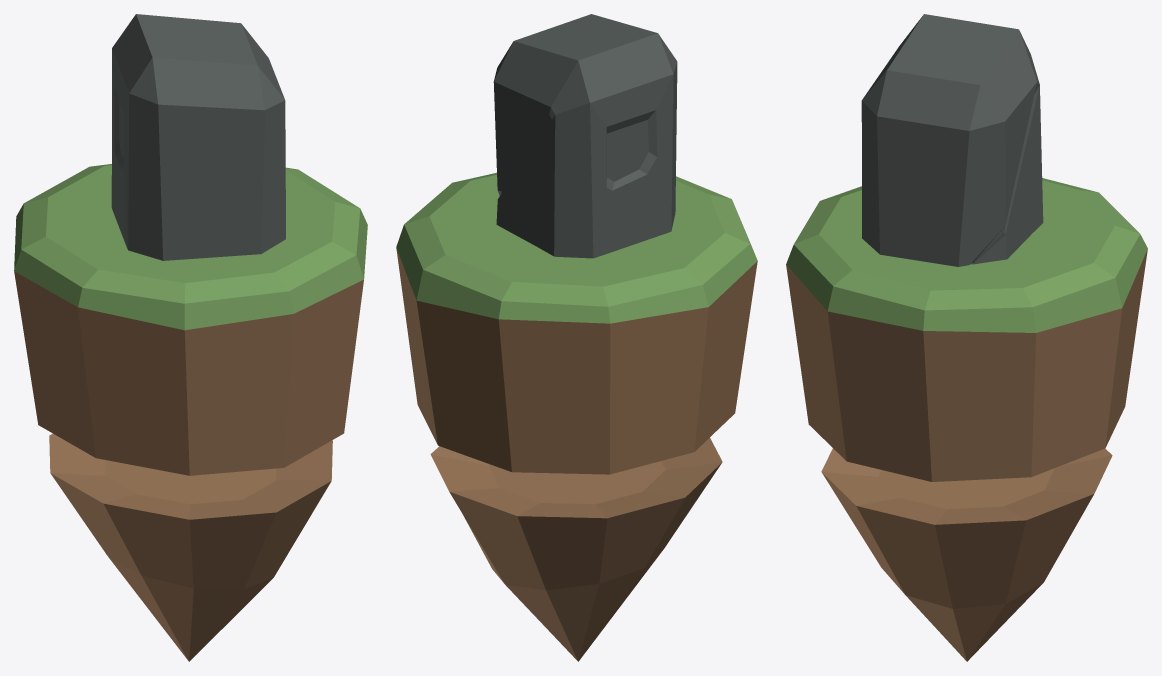
File: SM_miniIsland03.fbx
3 renders of one model, left to right at view 1: azimuth 30°, elevation 25°; view 2: azimuth 150°, elevation 25°; view 3: azimuth 270°, elevation 25°, orthographic. The views are drawn at different scales.
Visible parts, largest first — view 1: miniIsland03.001, Cube.001; view 2: miniIsland03.001, Cube.001; view 3: miniIsland03.001, Cube.001.
Boxes of the visible parts, x1,y1,x2,y2 form: miniIsland03.001: (14, 164, 367, 661); Cube.001: (111, 14, 285, 260); miniIsland03.001: (396, 172, 757, 661); Cube.001: (493, 14, 677, 258); miniIsland03.001: (786, 178, 1147, 661); Cube.001: (861, 14, 1043, 266).
Size of the model in its own units: 367 by 718 by 380.
